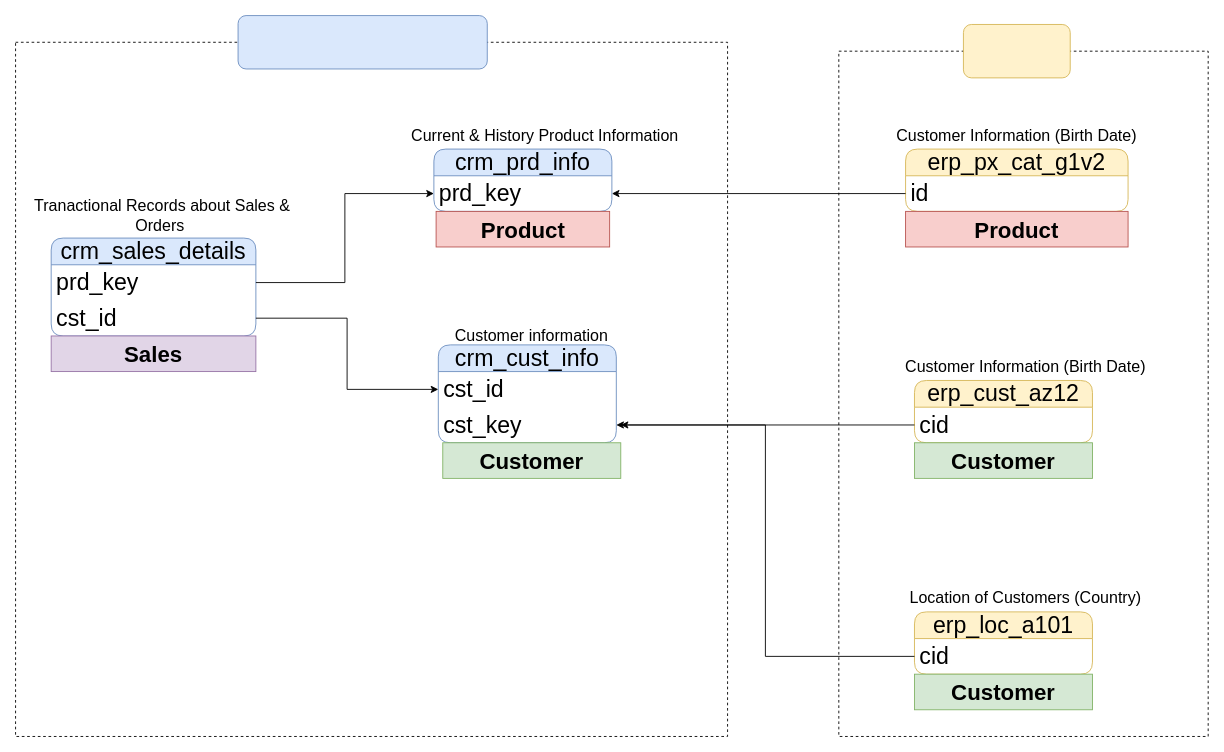
Some shapes in this 1224 by 752 pixel diagram are drawn without their labels. The shapes that lost their labels are listed below. From the top down, each one's centre as x and y in pixels, then its label:
At [362,42]: "CRM".
At [1016,51]: "ERP".
